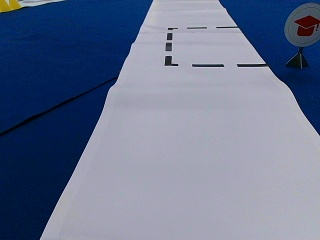school: (284, 3, 318, 46)
